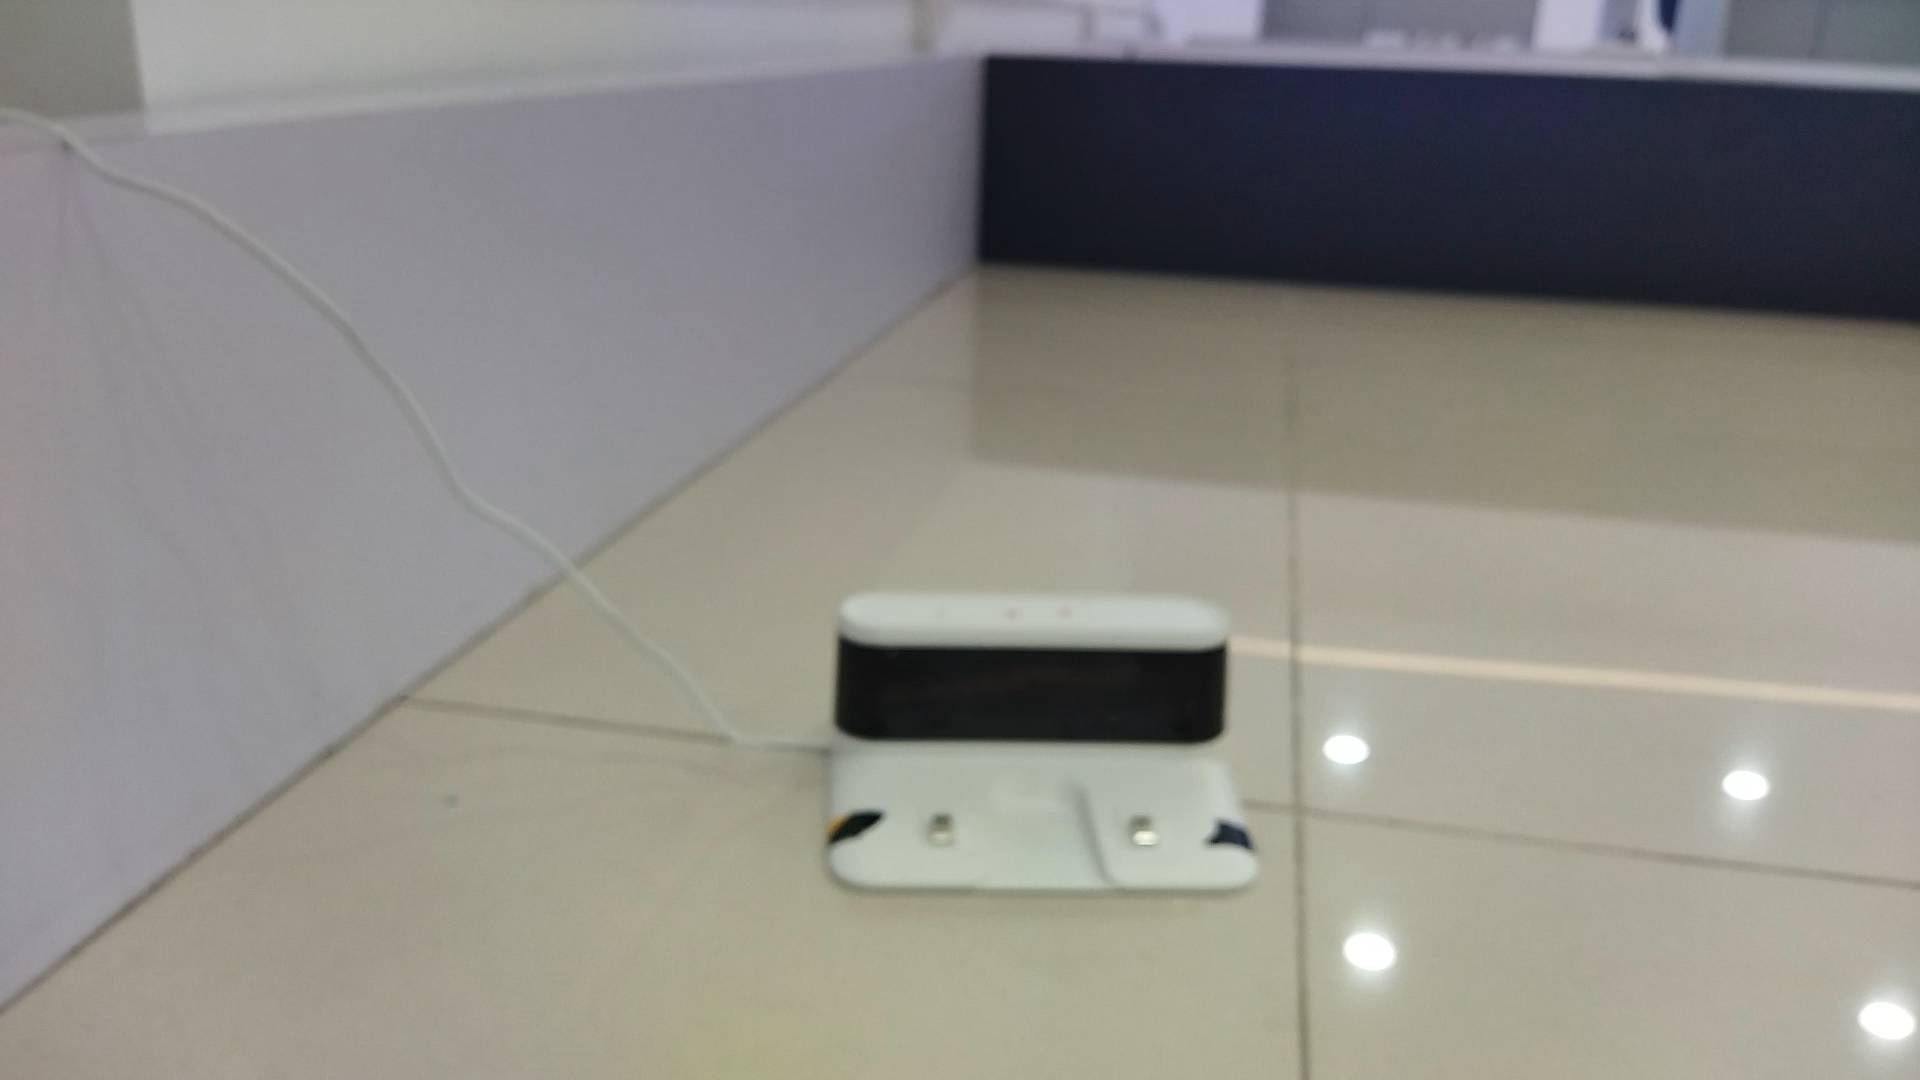recharge seat: (823, 588, 1261, 895)
